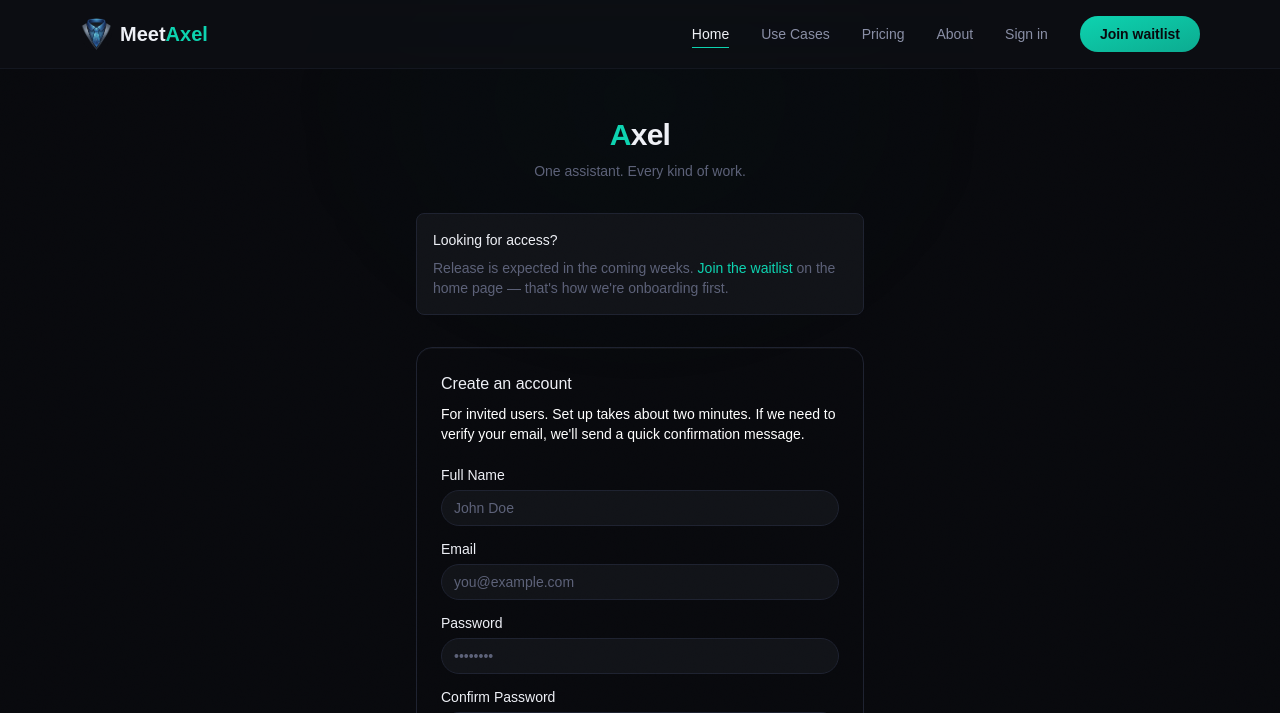
Test: SignUp › shows error when passwords do not match
The image size is (1280, 713).
Step 1. Type "password123" into the password field labelled "Password" → (640, 656), box [441,638,839,674]
(page scrolled)
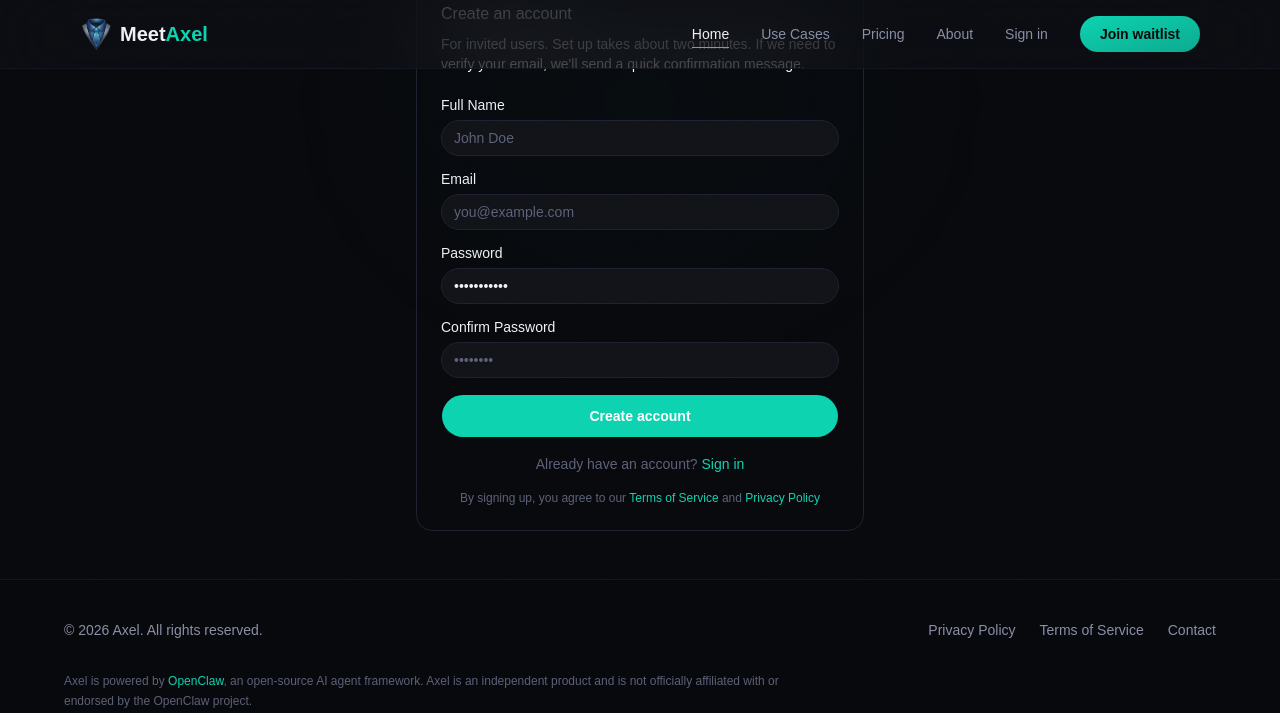
Step 2. Type "different" into the password field labelled "Confirm Password" → (640, 360), box [441,342,839,378]
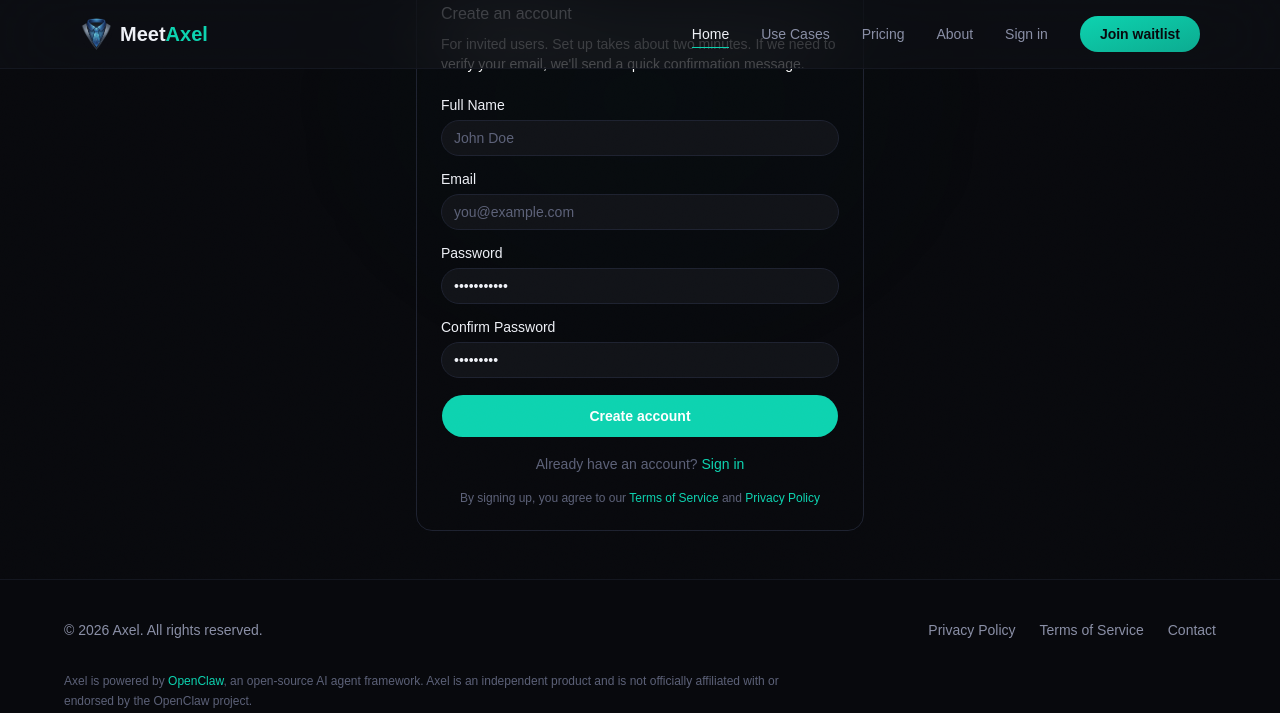
Step 3. Submit the form from the button "Create account", box [441,394,839,438]
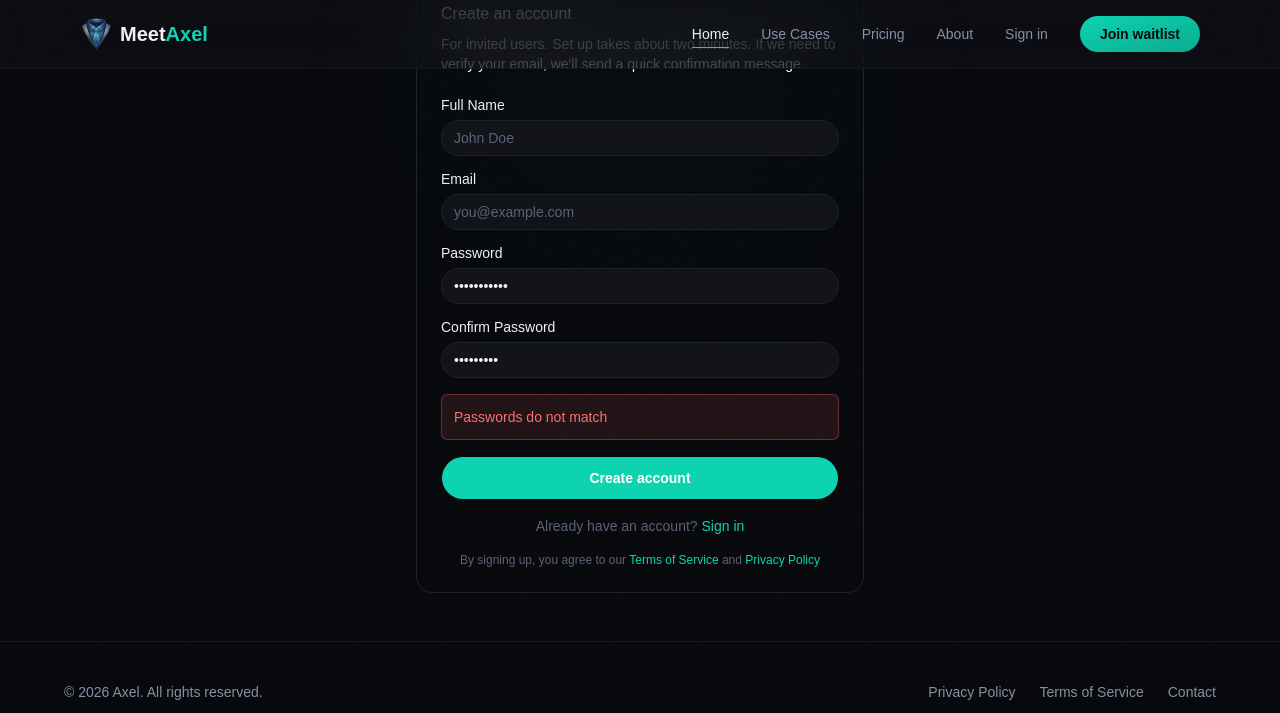
Check: the text "Passwords do not match" is shown, box [441,394,839,440]
